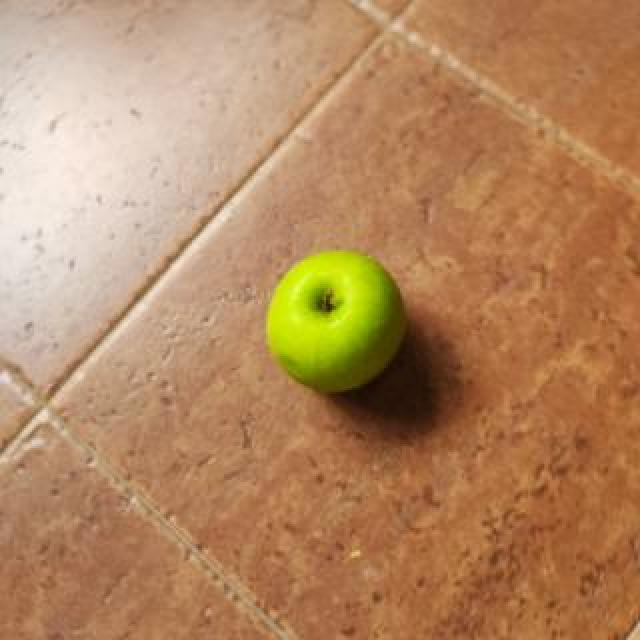Fresh Apple: (269, 246, 398, 386)
